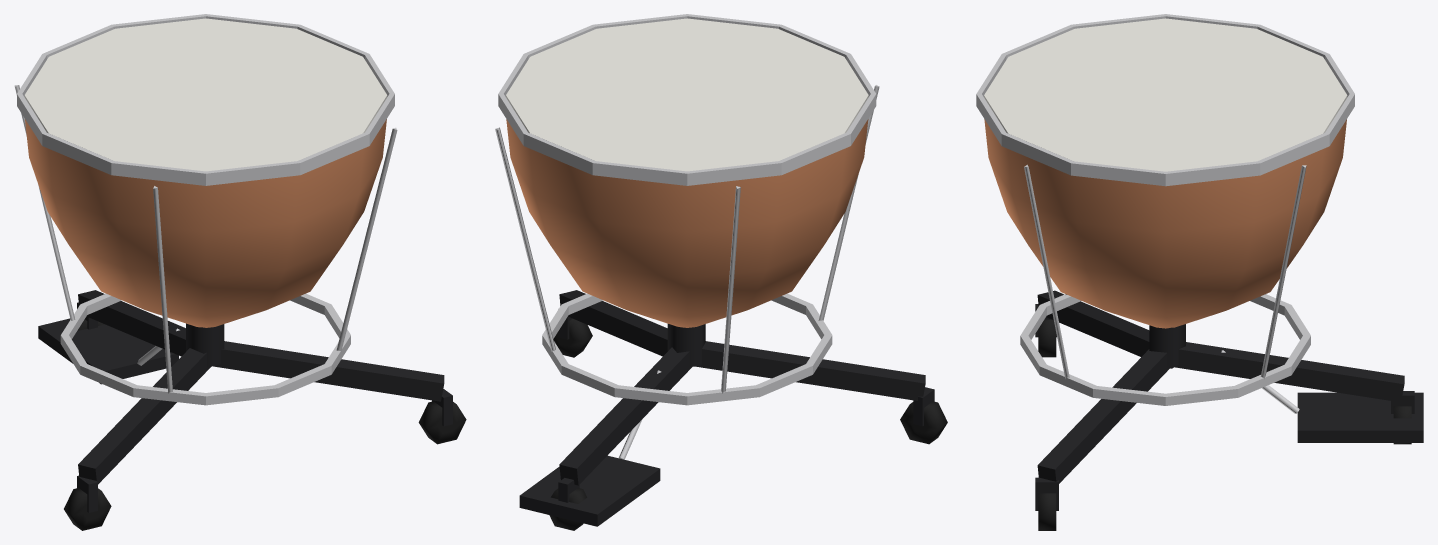
File: timpani-32-low.glb
3 views of the same model, side by side, from view 1: azimuth 30°, elevation 25°; view 2: azimuth 150°, elevation 25°; view 3: azimuth 270°, elevation 25° (orthographic).
Parts seen in each view (by area): view 1: head, copper, frame, metal, rubber; view 2: head, copper, frame, metal, rubber; view 3: head, copper, frame, metal, rubber.
Boxes of the visible parts, box(x1,y1,x2,y2) form: head: box(24, 18, 387, 171); copper: box(25, 119, 386, 327); frame: box(38, 290, 452, 512); metal: box(14, 14, 397, 405); rubber: box(64, 319, 466, 530); head: box(506, 18, 868, 171); copper: box(506, 119, 868, 327); frame: box(519, 290, 934, 526); metal: box(495, 14, 879, 459); rubber: box(549, 318, 947, 530); head: box(984, 18, 1347, 171); copper: box(984, 119, 1346, 328); frame: box(1035, 290, 1423, 510); metal: box(976, 14, 1354, 413); rubber: box(1038, 319, 1411, 530).
Bounding box in the file's own units: 1.01 × 0.8463 × 0.993.
